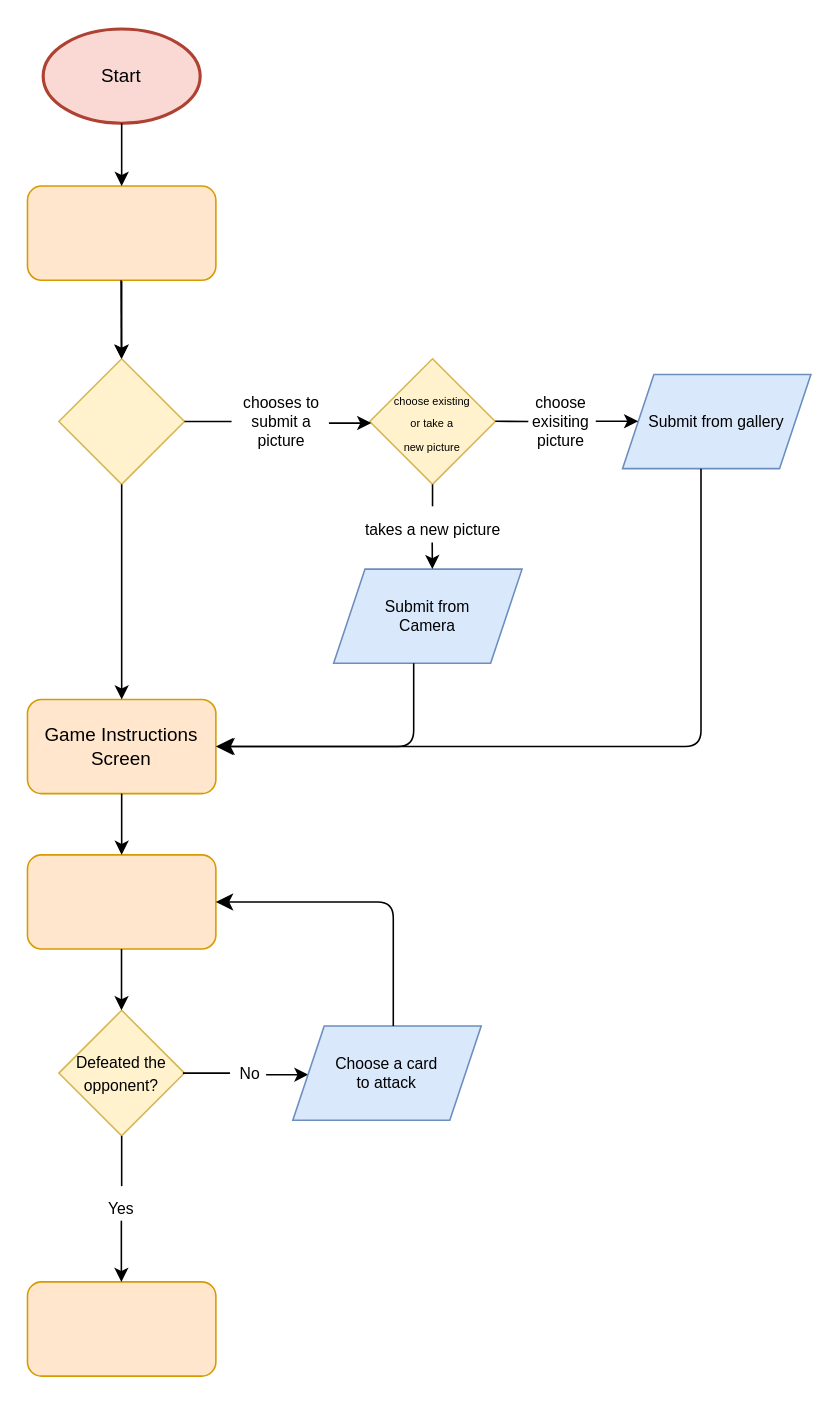
Some shapes in this 838 by 1404 pixel diagram are drawn without their labels. Each missing label, with the centre of its shape:
Game Screen: the point at 121,901
Results Screen: the point at 121,1328
submit picutre screen: the point at 120,420
Welcome Screen: the point at 121,232
